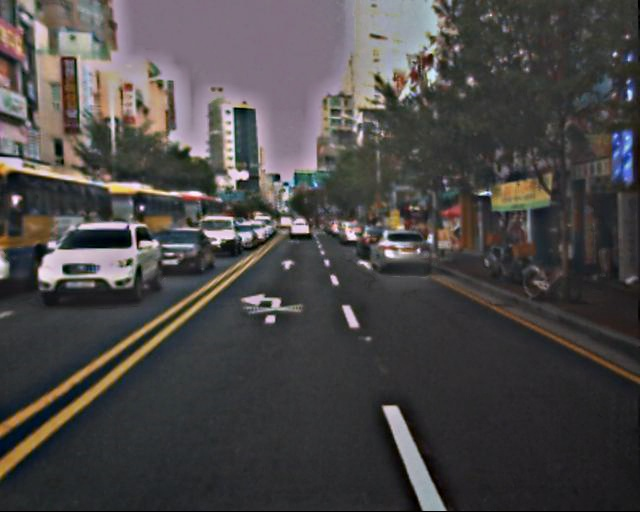person: (582, 212, 616, 282)
